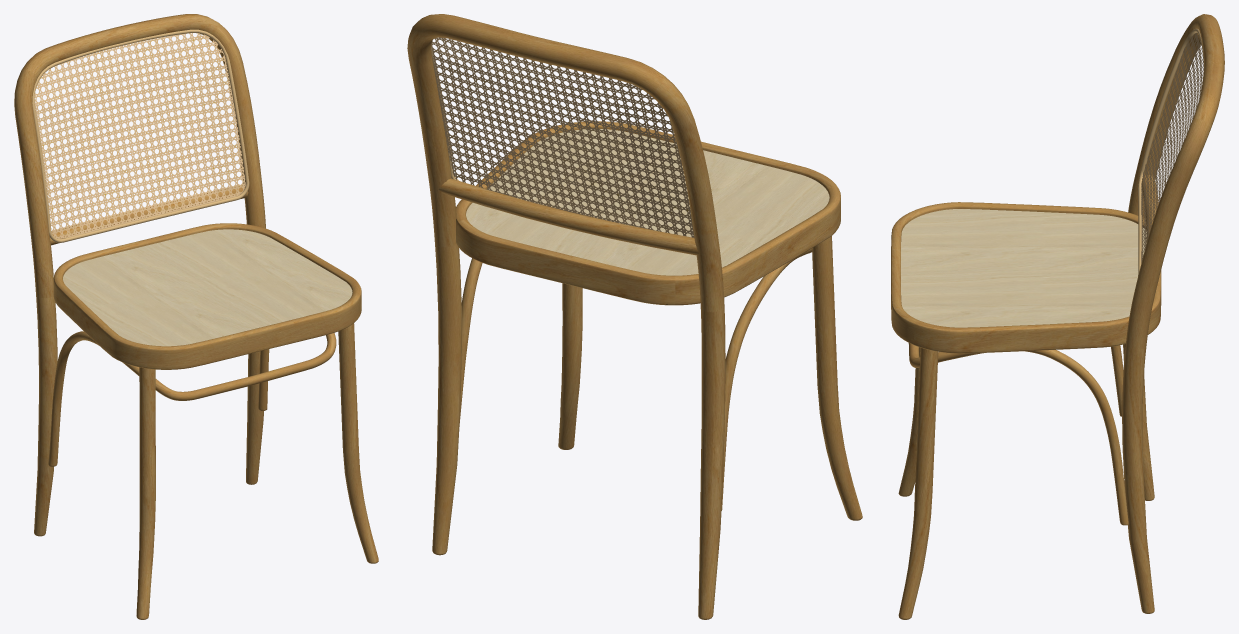
The model's file is school_chair.glb.
3 views of the same model, side by side, from view 1: azimuth 30°, elevation 25°; view 2: azimuth 150°, elevation 25°; view 3: azimuth 270°, elevation 25° (orthographic). The views are drawn at different scales.
Parts seen in each view (by area): view 1: group1; view 2: group1; view 3: group1.
Boxes of the visible parts, box(x1,y1,x2,y2) form: group1: box(14, 14, 378, 619); group1: box(407, 14, 862, 619); group1: box(891, 14, 1224, 619).
Size of the model in its own units: 0.2834 by 0.512 by 0.3085.
Materials: 1 (1 with a texture image).
